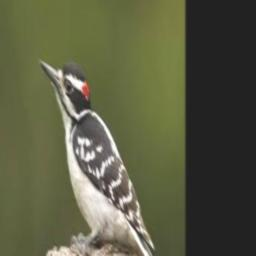Woodpecker: (40, 58, 157, 256)
